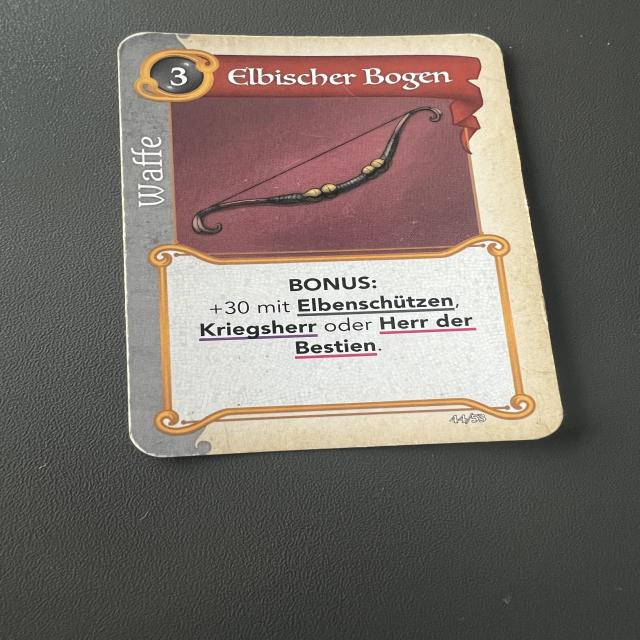Elven Longbow: (116, 32, 570, 461)
